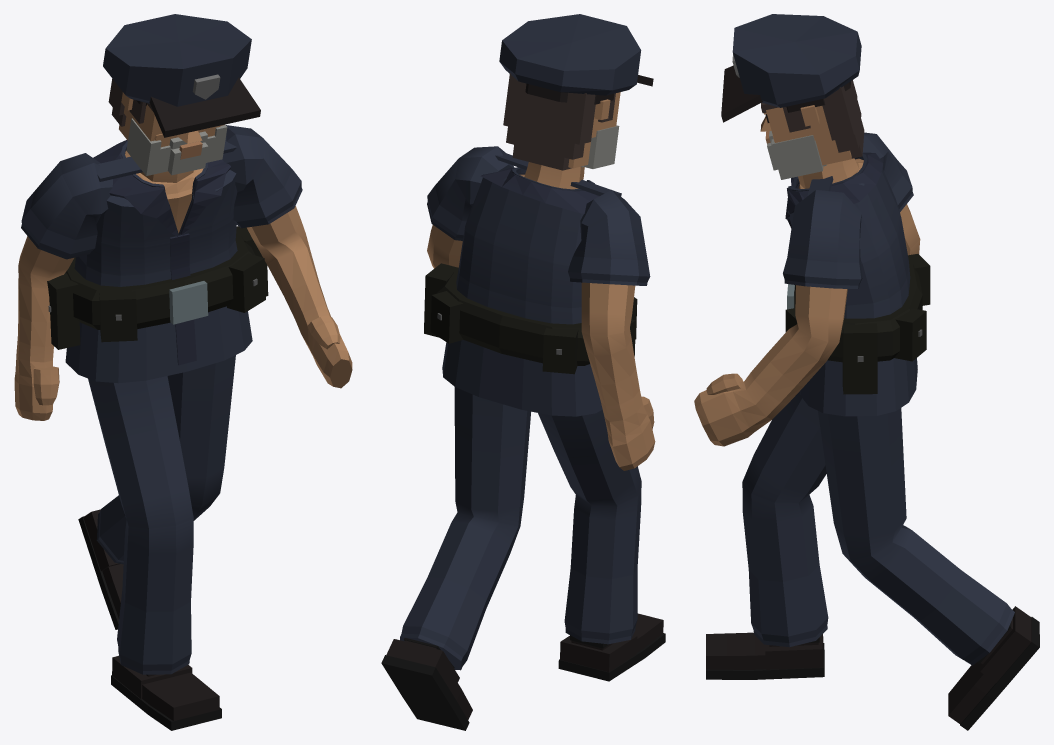
The model's file is police-officer-1cc379__walk5.glb.
3 renders of one model, left to right at view 1: azimuth 30°, elevation 25°; view 2: azimuth 150°, elevation 25°; view 3: azimuth 270°, elevation 25°, orthographic. The views are drawn at different scales.
Parts seen in each view (by area): view 1: police-officer-1cc379__walk5; view 2: police-officer-1cc379__walk5; view 3: police-officer-1cc379__walk5.
Part boxes in pixels (left/top/right/bottom): police-officer-1cc379__walk5: left=14, top=14, right=352, bottom=730; police-officer-1cc379__walk5: left=381, top=14, right=665, bottom=730; police-officer-1cc379__walk5: left=694, top=14, right=1039, bottom=730.
Bounding box in the file's own units: 0.6994 × 1.73 × 0.8278.
